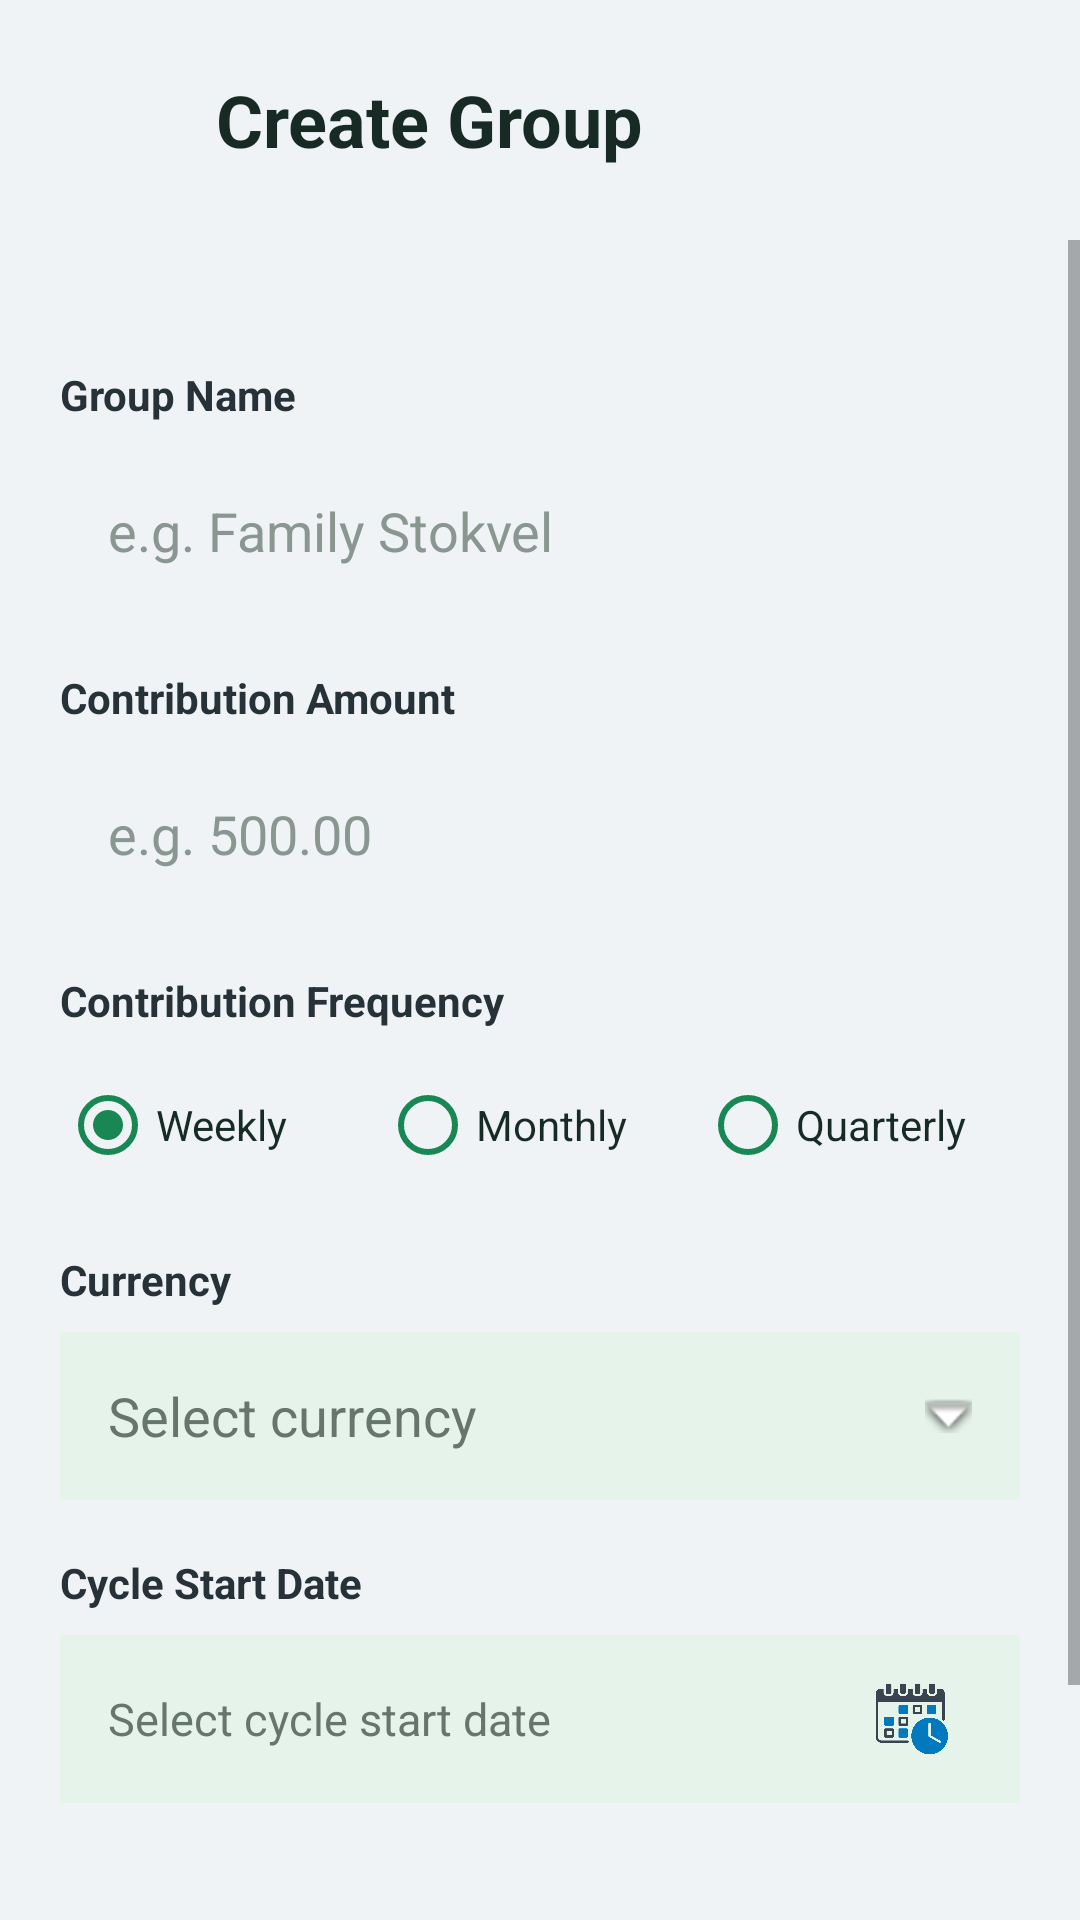

Point at icon controls on the screen. Image size 1080×1920, points as point (x, y).
Open calendar: point (912, 1719)
